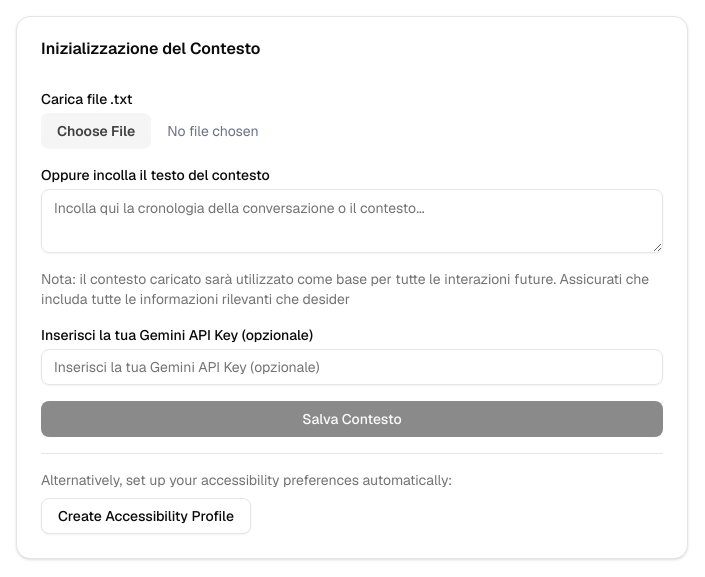
Test: ContextSetup › enables save button when text is entered
Replace the text in the text box labelled "Oppure incolla il testo del contesto" with "some context text" at (352, 221), box [41,189,663,253]
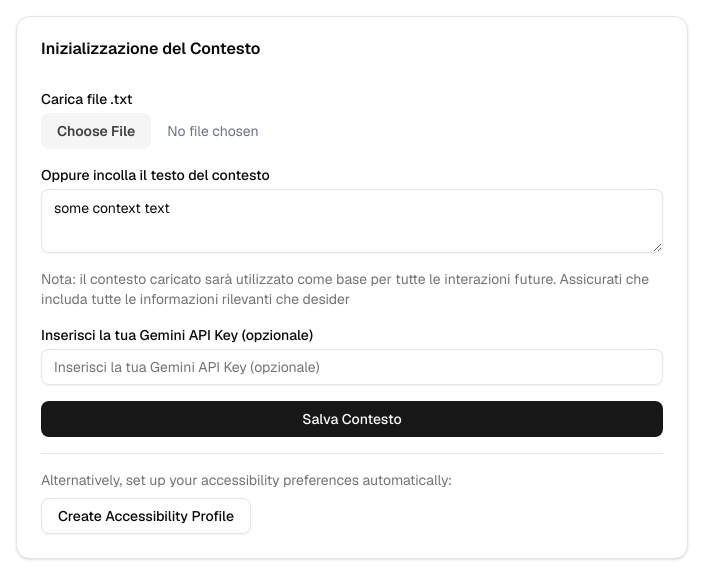
Check: the button "Salva Contesto" is enabled, box [41,401,663,437]
